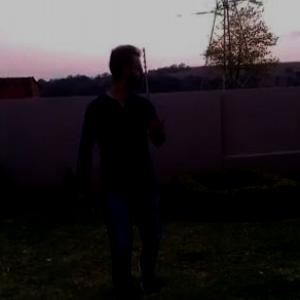takeoff-hand: (140, 102, 174, 140)
